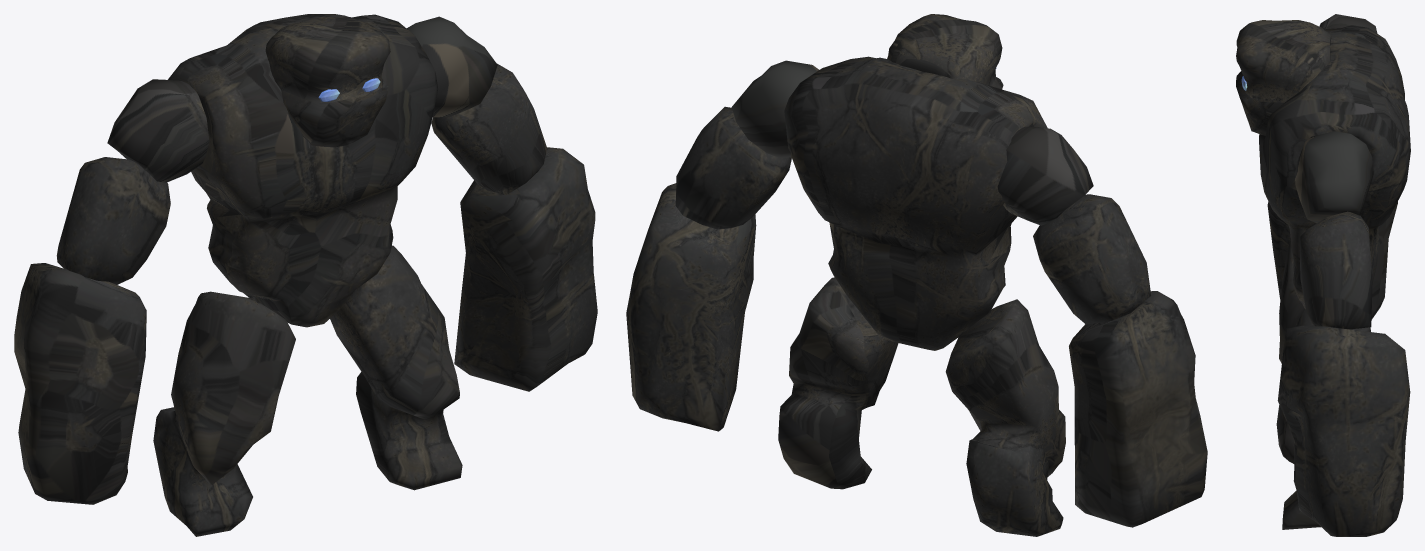
The model's file is Piedra.obj.
The picture shows the model from 3 angles, left to right: view 1: azimuth 30°, elevation 25°; view 2: azimuth 150°, elevation 25°; view 3: azimuth 270°, elevation 25°; orthographic projection. The views are drawn at different scales.
Parts seen in each view (by area): view 1: hands&leg.001_ice.003, torso.001_ice.005, head.001_ice.004; view 2: hands&leg.001_ice.003, torso.001_ice.005, head.001_ice.004; view 3: hands&leg.001_ice.003, torso.001_ice.005, head.001_ice.004.
Boxes of the visible parts, x1=… form: hands&leg.001_ice.003: x1=14, y1=16, x2=597, y2=536; torso.001_ice.005: x1=168, y1=14, x2=437, y2=327; head.001_ice.004: x1=265, y1=17, x2=390, y2=147; hands&leg.001_ice.003: x1=626, y1=60, x2=1207, y2=536; torso.001_ice.005: x1=784, y1=56, x2=1047, y2=350; head.001_ice.004: x1=887, y1=14, x2=1003, y2=89; hands&leg.001_ice.003: x1=1267, y1=14, x2=1410, y2=536; torso.001_ice.005: x1=1259, y1=25, x2=1410, y2=308; head.001_ice.004: x1=1236, y1=20, x2=1331, y2=135.
Bounding box in the file's own units: 75.07 × 60.44 × 21.54.
